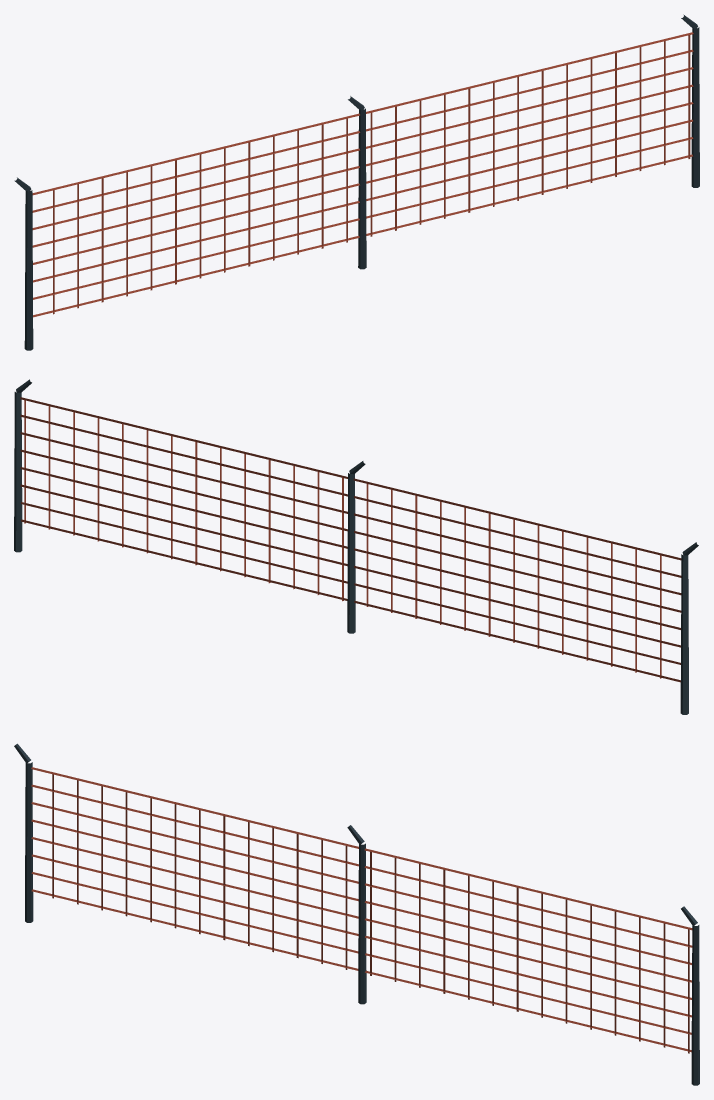
The model's file is safety-fence.glb.
3 views of the same model, one above another, from view 1: azimuth 30°, elevation 25°; view 2: azimuth 150°, elevation 25°; view 3: azimuth 330°, elevation 25° (orthographic).
Visible parts, largest first — view 1: safety-fence; view 2: safety-fence; view 3: safety-fence.
Part boxes in pixels (<box>): safety-fence: <box>14,14,699,350</box>; safety-fence: <box>14,379,698,714</box>; safety-fence: <box>14,743,699,1085</box>.
Size of the model in its own units: 6.16 by 1.5 by 0.0662.
